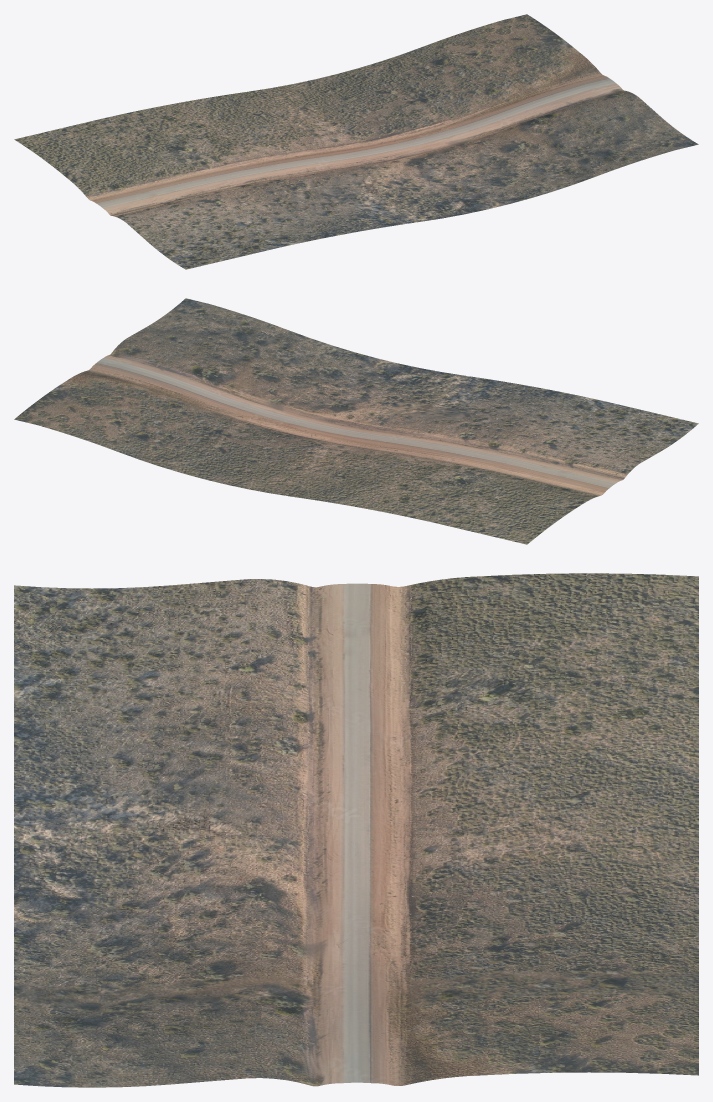
File: road_terrain1.glb
3 renders of one model, top to bottom at view 1: azimuth 30°, elevation 25°; view 2: azimuth 150°, elevation 25°; view 3: azimuth 270°, elevation 25°, orthographic. The views are drawn at different scales.
Parts seen in each view (by area): view 1: Material2; view 2: Material2; view 3: Material2.
Part boxes in pixels (x1,y1,x2,y2): Material2: (14,14,698,269); Material2: (14,298,698,544); Material2: (14,573,698,1087).
Size of the model in its own units: 12006 by 471 by 6963.
Materials: 1 (1 with a texture image).
